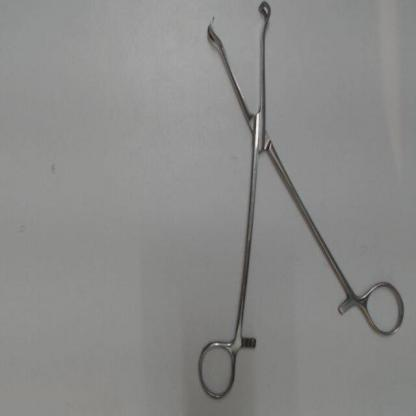8 Babcock Tissue Forceps: (190, 2, 408, 409)
